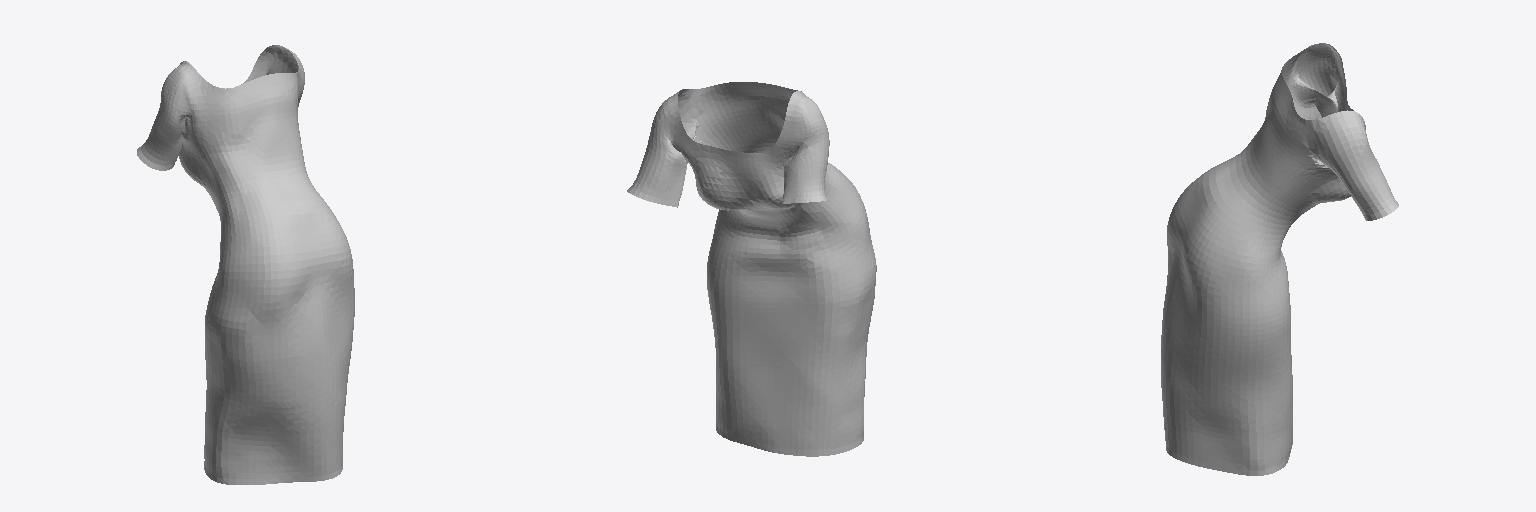
Rendered from amandaDressOnly.OBJ.
3 views of the same model, side by side, from view 1: azimuth 30°, elevation 25°; view 2: azimuth 150°, elevation 25°; view 3: azimuth 270°, elevation 25° (orthographic).
Visible parts, largest first — view 1: Group11683; view 2: Group11683; view 3: Group11683.
Part boxes in pixels (x1,y1,x2,y2): Group11683: (137, 45, 354, 484); Group11683: (627, 82, 876, 456); Group11683: (1161, 43, 1398, 475).
Size of the model in its own units: 0.0574 by 0.1191 by 0.0676.